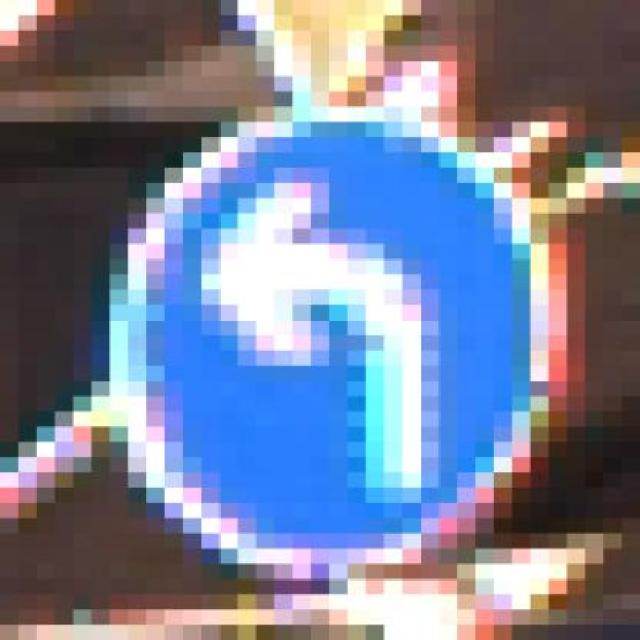Turn left ahead: (91, 92, 567, 610)
